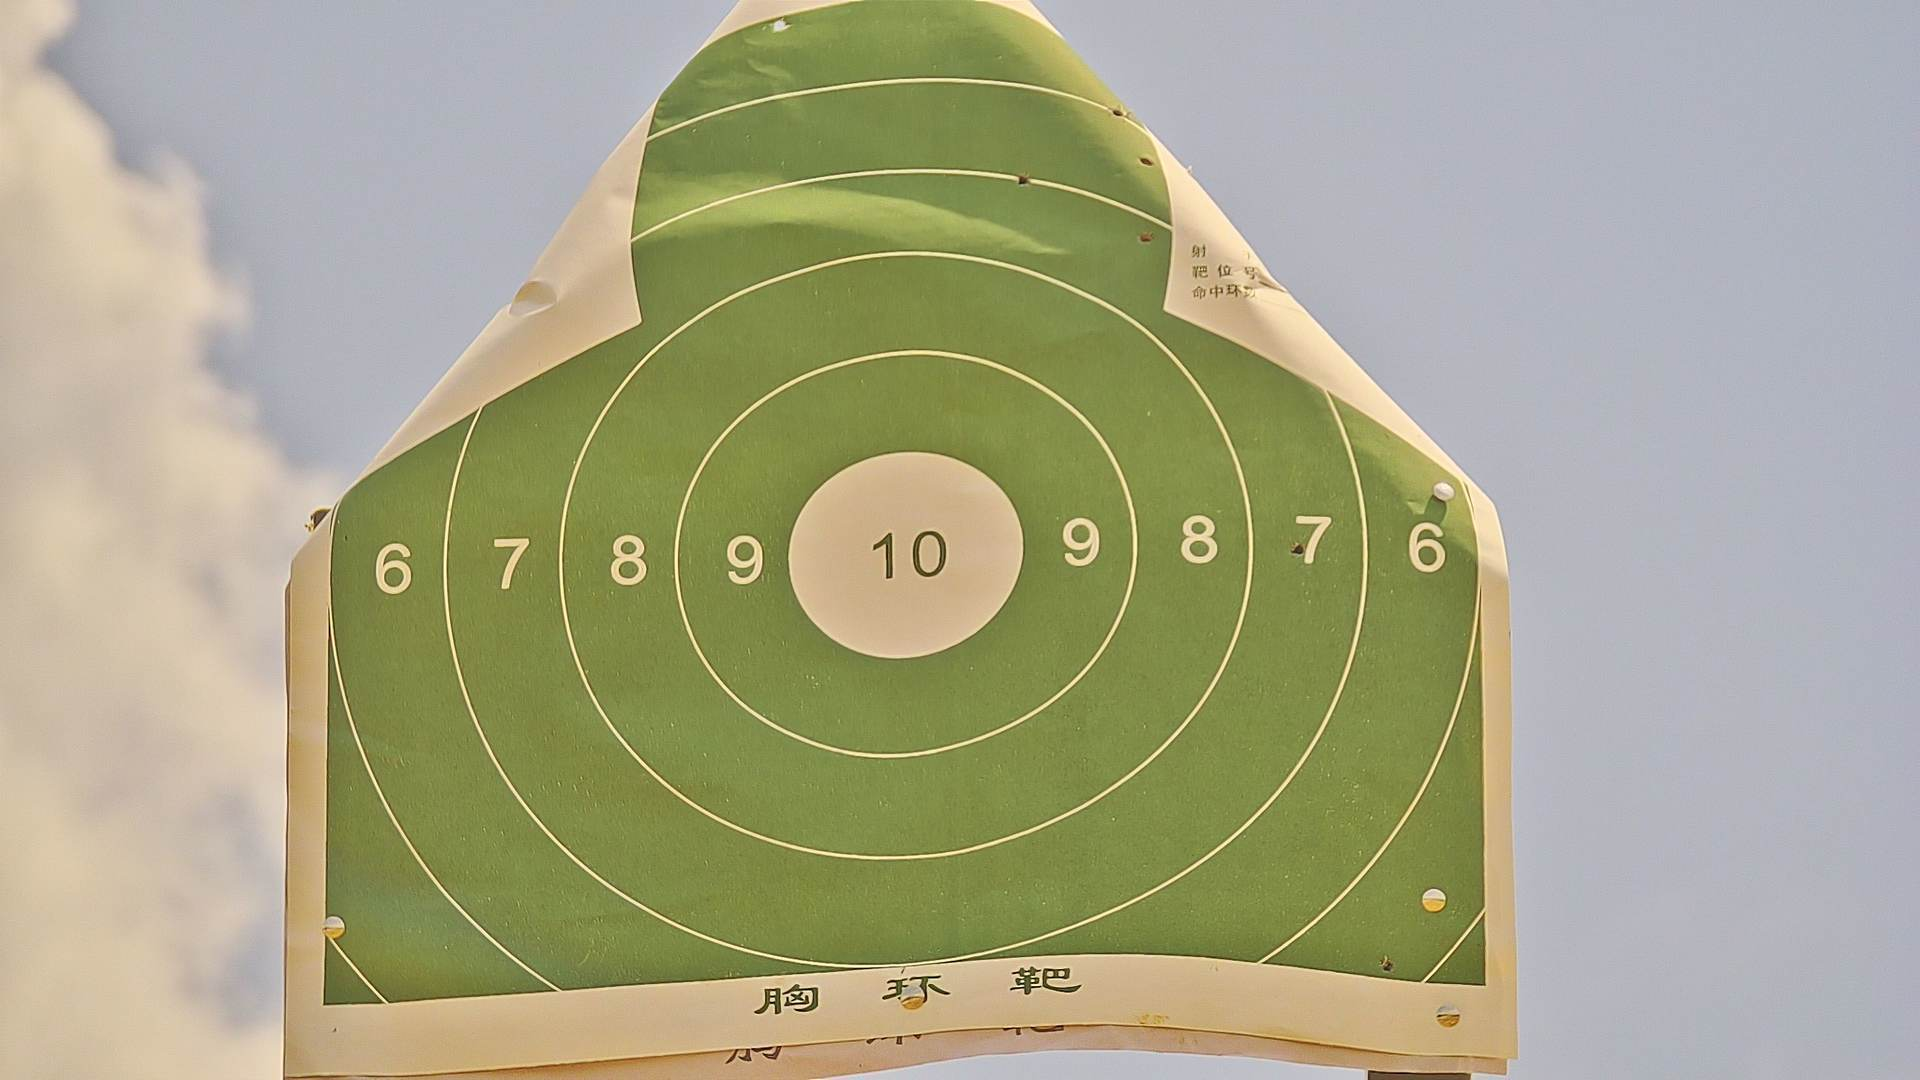hole: (1373, 952, 1400, 973), (1014, 167, 1033, 193), (1134, 150, 1154, 173), (1287, 539, 1309, 558), (1134, 225, 1153, 247), (769, 17, 793, 33), (1110, 104, 1127, 120)
kernel: (899, 549, 905, 553)
target: (324, 11, 1486, 1009)
ten: (786, 454, 1026, 662)
